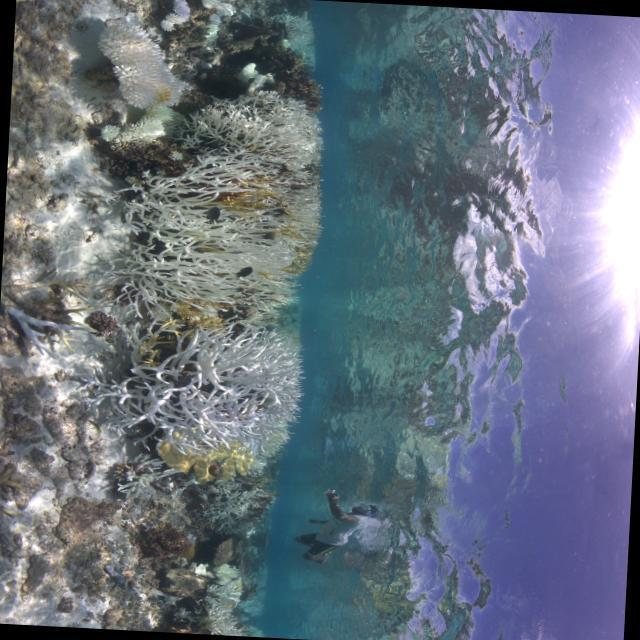Bleached Coral: (117, 84, 330, 308), (83, 327, 323, 457), (86, 16, 198, 106), (189, 562, 260, 637), (3, 306, 81, 353), (208, 480, 260, 527), (124, 471, 177, 500), (157, 0, 191, 26), (204, 12, 227, 41), (202, 0, 239, 17)
Dead Coral: (3, 269, 73, 308)
